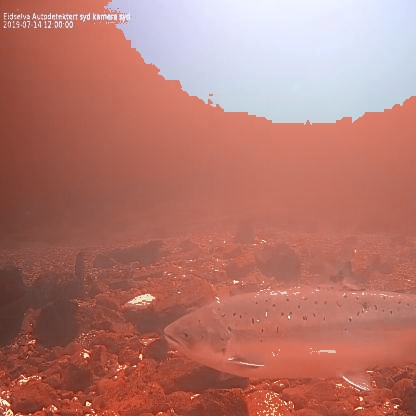salmon: (158, 258, 416, 396)
